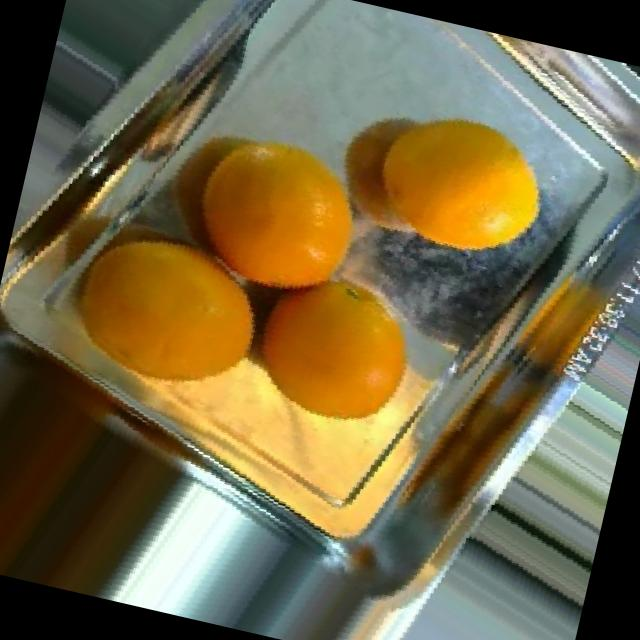Fruit: (290, 50, 542, 285), (602, 60, 640, 144)
